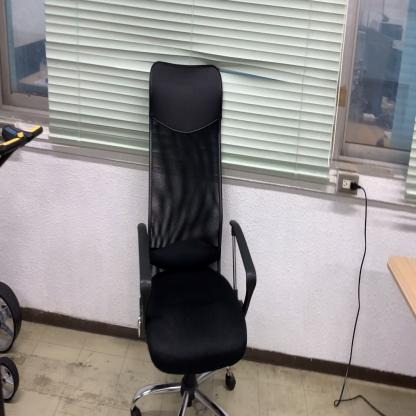chair: (130, 60, 258, 416)
